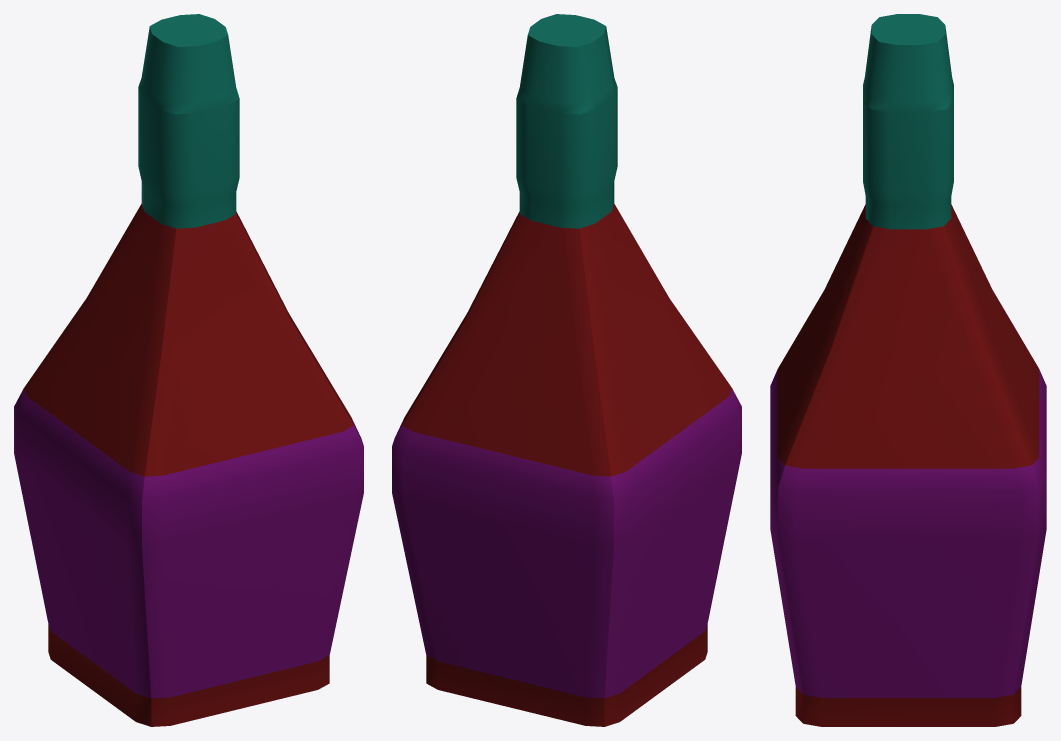
3 views of the same model, side by side, from view 1: azimuth 30°, elevation 25°; view 2: azimuth 150°, elevation 25°; view 3: azimuth 270°, elevation 25° (orthographic). The views are drawn at different scales.
Visible parts, largest first — view 1: B6; view 2: B6; view 3: B6.
Boxes of the visible parts, x1=… form: B6: x1=14, y1=14, x2=363, y2=726; B6: x1=392, y1=14, x2=741, y2=726; B6: x1=770, y1=14, x2=1046, y2=726.
Size of the model in its own units: 48.38 by 125 by 48.38.
